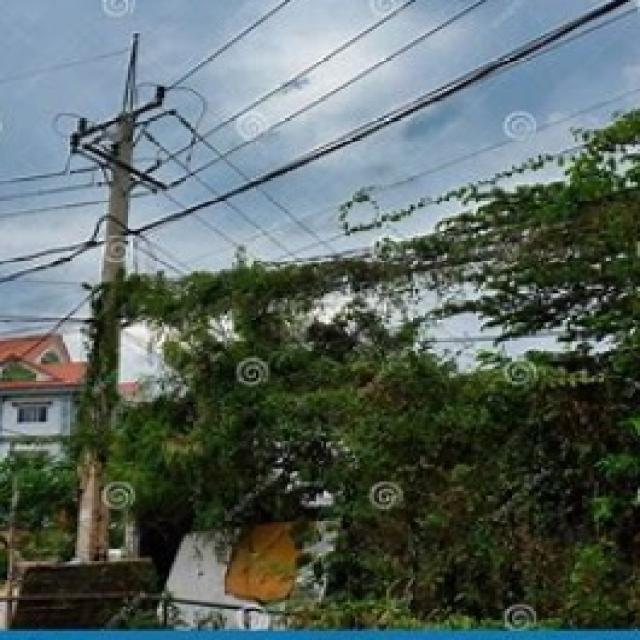critical vegetation: (80, 238, 636, 372)
